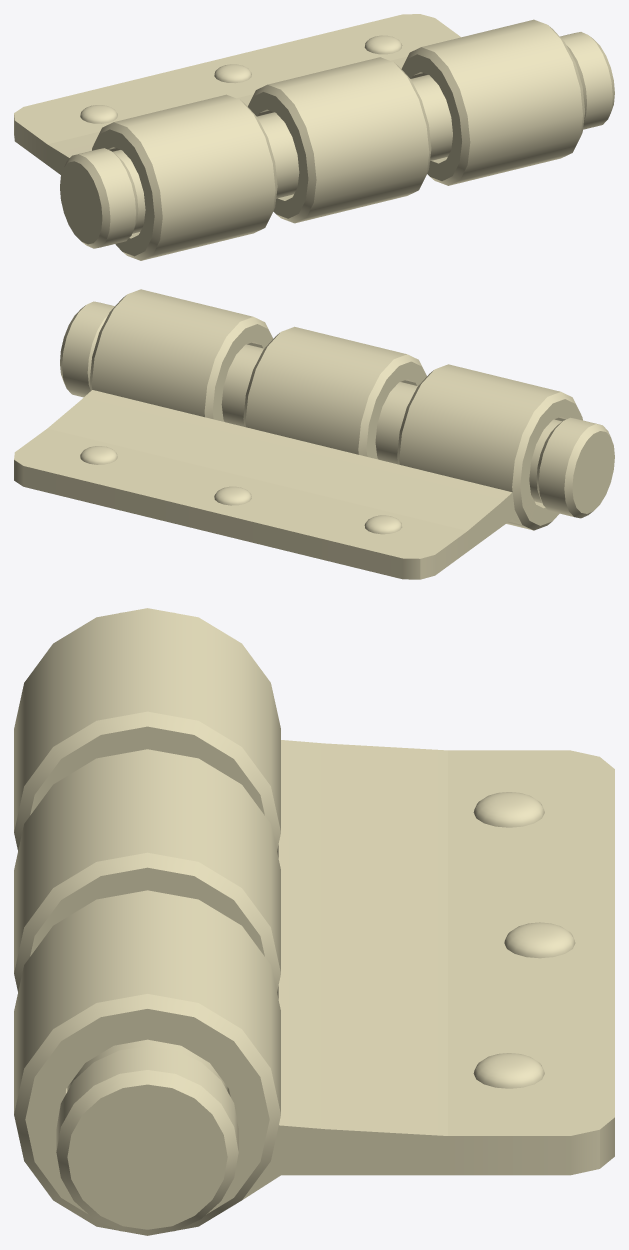
Rendered from hinge_Bot.fbx.
The picture shows the model from 3 angles, top to bottom: view 1: azimuth 30°, elevation 25°; view 2: azimuth 150°, elevation 25°; view 3: azimuth 270°, elevation 25°; orthographic projection. The views are drawn at different scales.
Parts seen in each view (by area): view 1: hinge_Bot; view 2: hinge_Bot; view 3: hinge_Bot.
Part boxes in pixels (x1,y1,x2,y2): hinge_Bot: [14, 14, 614, 260]; hinge_Bot: [14, 289, 614, 579]; hinge_Bot: [14, 608, 614, 1235].
Size of the model in its own units: 250 by 60 by 135.
